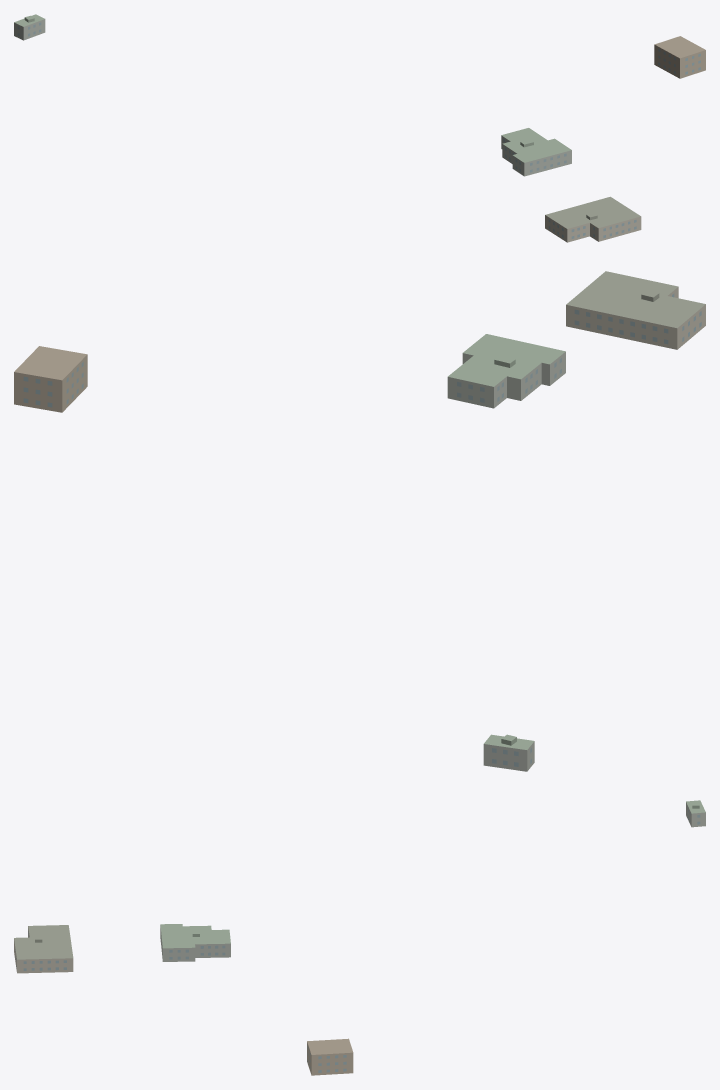
The picture shows the model from 3 angles, top to bottom: view 1: azimuth 30°, elevation 25°; view 2: azimuth 150°, elevation 25°; view 3: azimuth 270°, elevation 25°; orthographic projection. The views are drawn at different scales.
Visible parts, largest first — view 1: context-0, context-3, context-4; view 2: context-3, context-0, context-4; view 3: context-3, context-0, context-4.
Boxes of the visible parts, <box> form: context-0: <box>545,196,641,242</box>; context-3: <box>14,14,571,176</box>; context-4: <box>654,36,705,78</box>; context-3: <box>447,334,565,771</box>; context-0: <box>566,271,705,349</box>; context-4: <box>14,346,87,412</box>; context-3: <box>160,800,705,961</box>; context-0: <box>14,925,73,973</box>; context-4: <box>307,1038,353,1075</box>.
Size of the model in its own units: 238 by 15.18 by 283.
